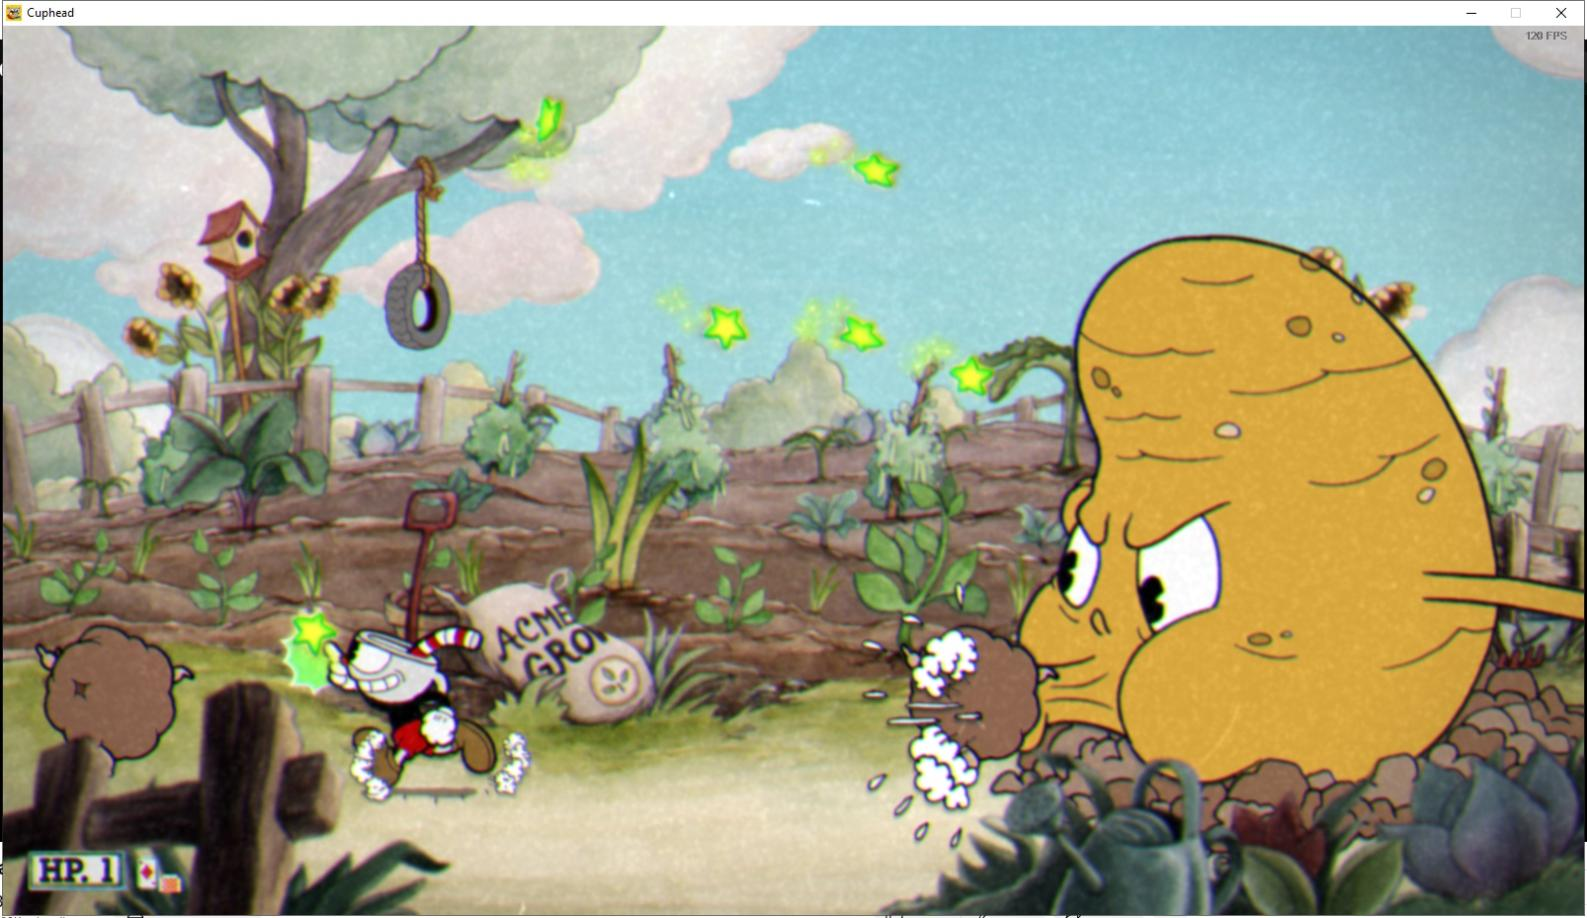dirt: (40, 614, 185, 770), (900, 620, 1051, 768)
hp1: (90, 849, 125, 893)
player: (323, 615, 505, 785)
potato_boss: (1036, 231, 1504, 804)
